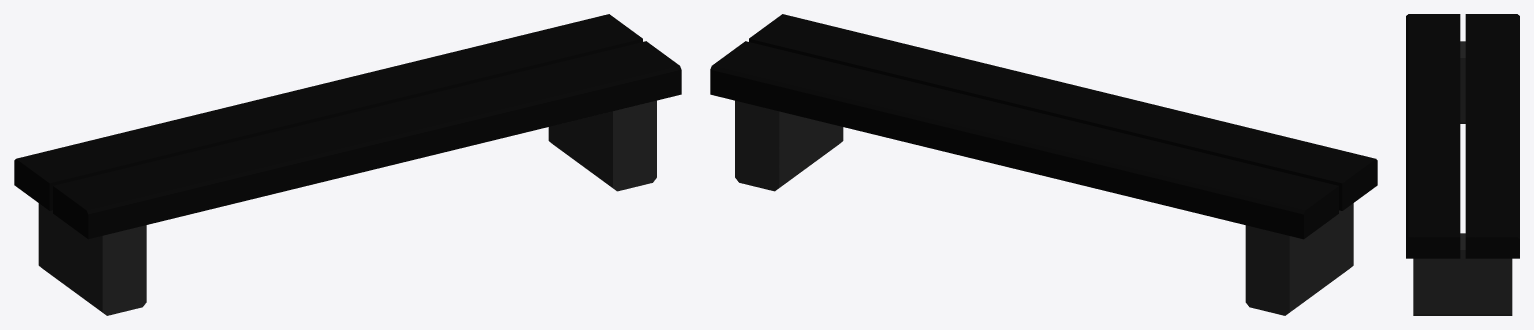
The picture shows the model from 3 angles, left to right: view 1: azimuth 30°, elevation 25°; view 2: azimuth 150°, elevation 25°; view 3: azimuth 270°, elevation 25°; orthographic projection. The views are drawn at different scales.
Parts seen in each view (by area): view 1: pCube5; view 2: pCube5; view 3: pCube5.
Boxes of the visible parts, box(x1,y1,x2,y2) form: pCube5: box(14, 14, 681, 315); pCube5: box(710, 14, 1377, 315); pCube5: box(1406, 14, 1519, 315).
Size of the model in its own units: 4.82 by 0.8826 by 1.04.
1 material, 1 textured.
